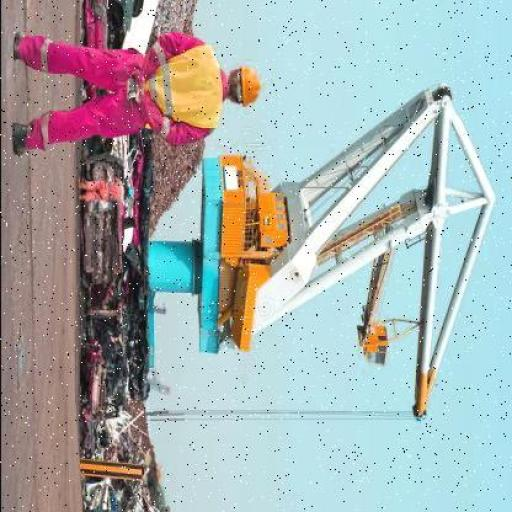person: (4, 24, 258, 162), (70, 175, 134, 207)
safety_shoe: (7, 109, 36, 162), (7, 32, 25, 68)
